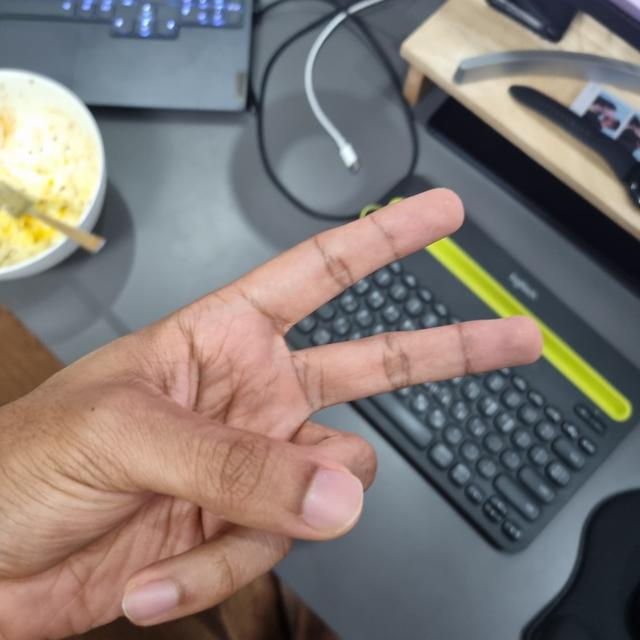Scissors: (0, 191, 540, 637)
